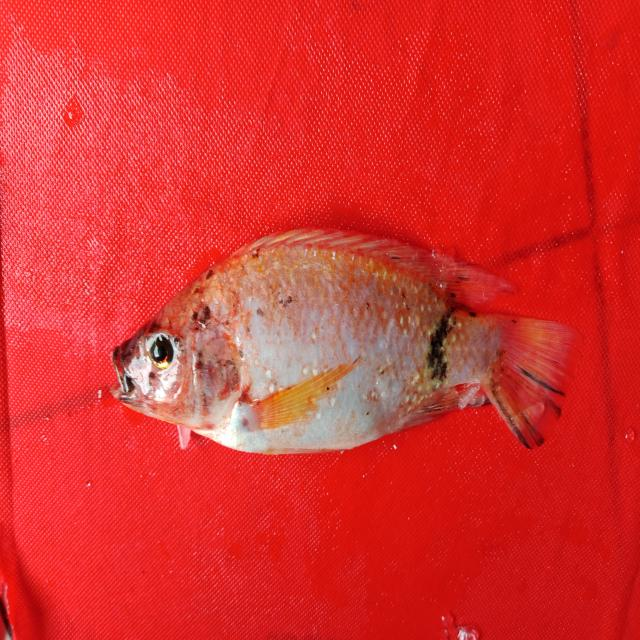ikan: (101, 207, 589, 479)
